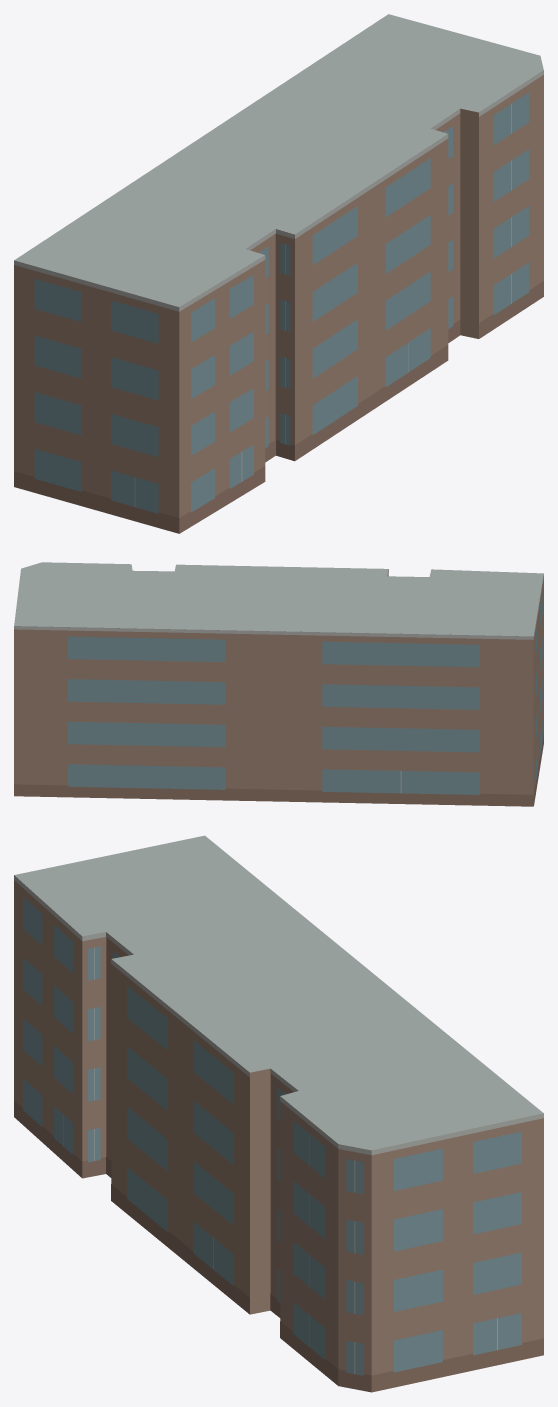
The model's file is survey-upis-32742248.glb.
3 views of the same model, one above another, from view 1: azimuth 30°, elevation 25°; view 2: azimuth 150°, elevation 25°; view 3: azimuth 270°, elevation 25° (orthographic). The views are drawn at different scales.
Visible parts, largest first — view 1: survey-upis-32742248.tmp; view 2: survey-upis-32742248.tmp; view 3: survey-upis-32742248.tmp.
Part boxes in pixels (<box>): survey-upis-32742248.tmp: <box>14,14,543,533</box>; survey-upis-32742248.tmp: <box>14,562,543,806</box>; survey-upis-32742248.tmp: <box>14,835,543,1392</box>.
Bounding box in the file's own units: 34.07 × 12.2 × 24.22.
